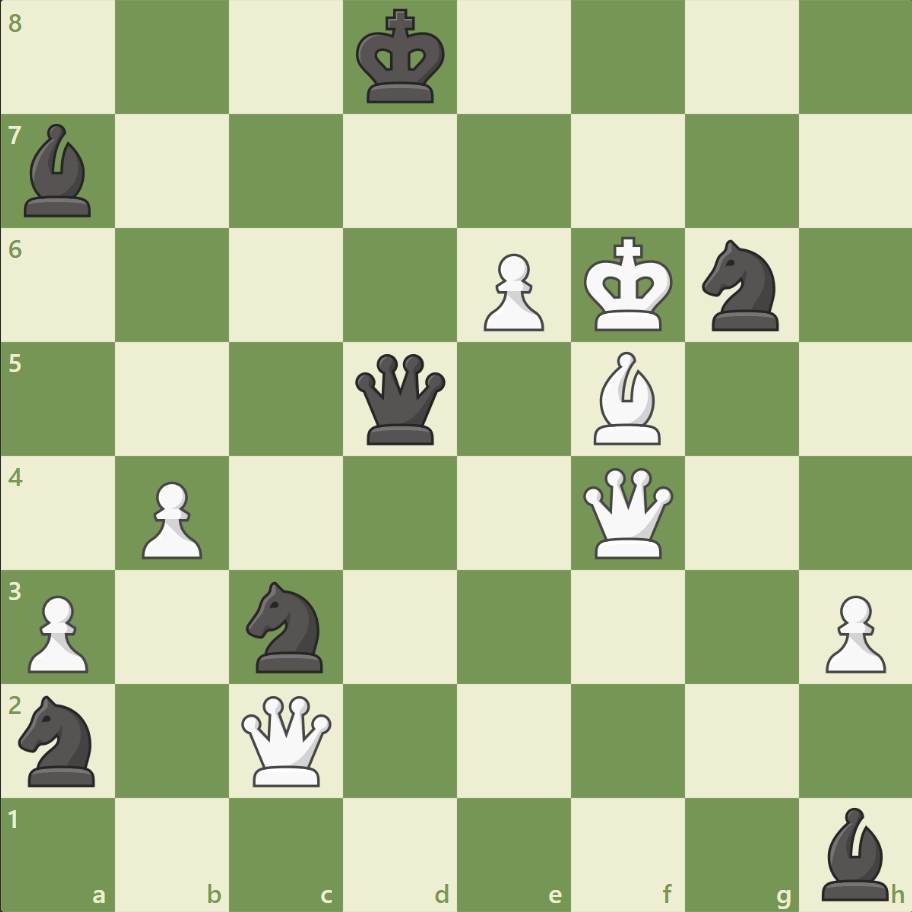B: (585, 347, 669, 449)
K: (579, 231, 679, 339)
P: (474, 246, 549, 337), (133, 473, 208, 564), (20, 586, 95, 677), (815, 586, 889, 677)
Q: (578, 463, 677, 562), (237, 690, 336, 789)
b: (812, 801, 896, 904), (17, 120, 101, 222)
k: (351, 4, 451, 112)
n: (692, 234, 789, 337), (11, 688, 108, 791), (238, 575, 335, 677)
q: (351, 349, 450, 449)
